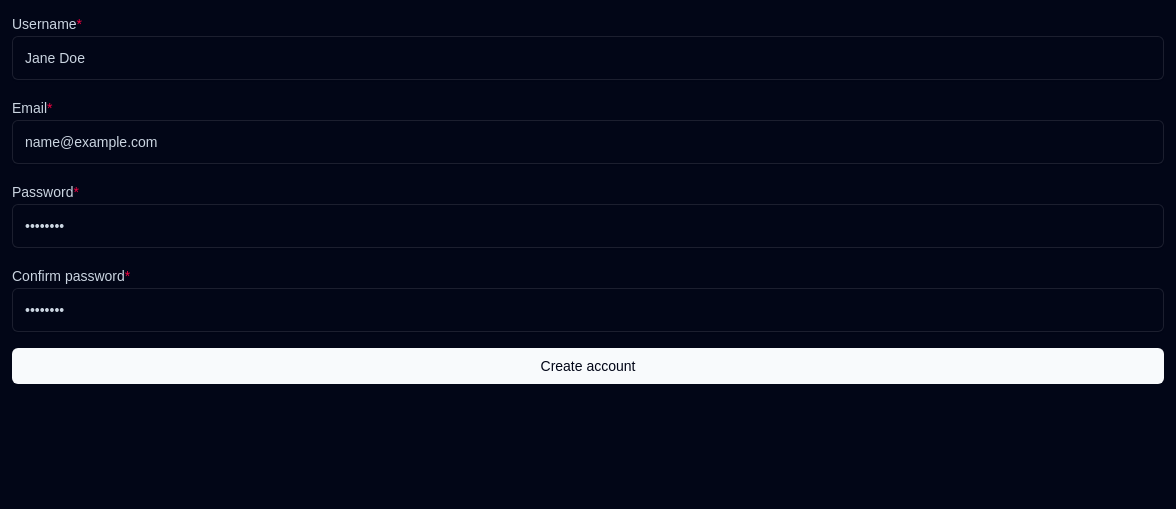
Test case: shows zod validation errors for required fields
Click the button "Create account": (588, 366) [12,348,1164,384]
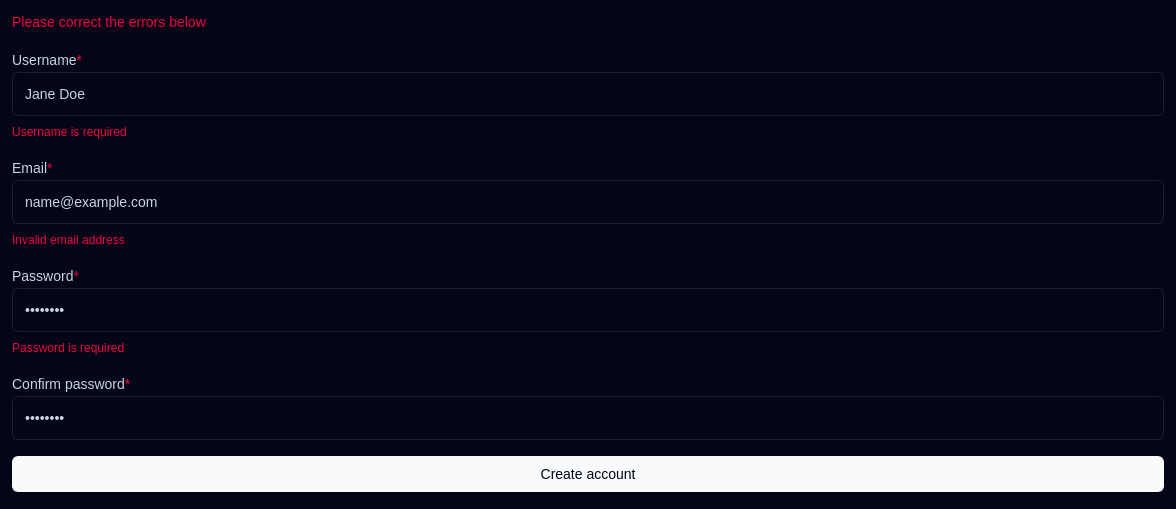
Check: the text "Username is required" is shown, box [12,125,127,139]
Check: the text "Invalid email address" is shown, box [12,233,125,247]
Check: the text "Password is required" is shown, box [12,341,124,355]
